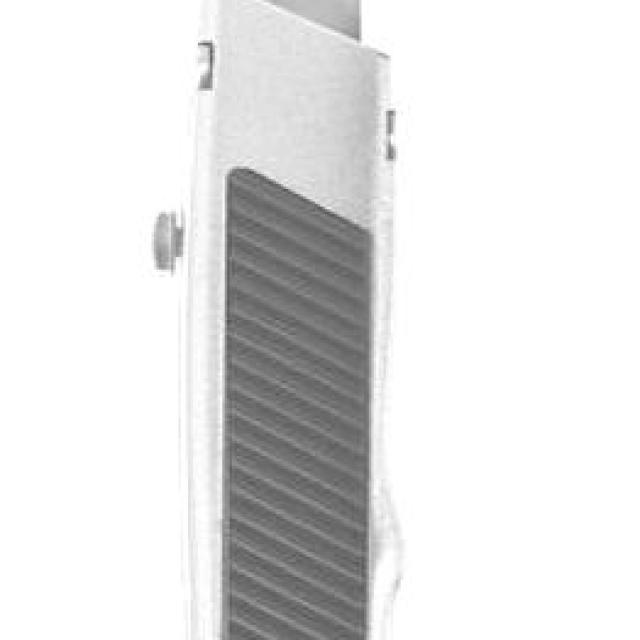estilete: (154, 0, 402, 640)
